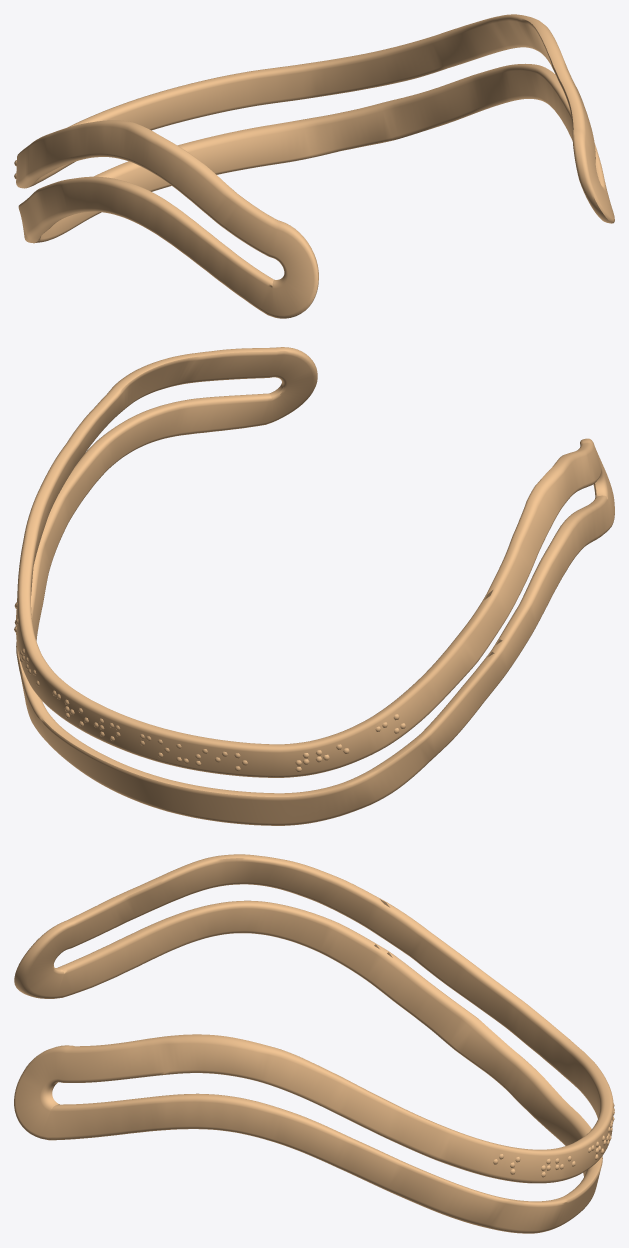
File: circlet-i.glb
The picture shows the model from 3 angles, top to bottom: view 1: azimuth 30°, elevation 25°; view 2: azimuth 150°, elevation 25°; view 3: azimuth 270°, elevation 25°; orthographic projection. The views are drawn at different scales.
Parts seen in each view (by area): view 1: crown-body; view 2: crown-body, braille-dots; view 3: crown-body, braille-dots.
Part boxes in pixels (box(x1,y1,x2,y2)): crown-body: box(16, 14, 614, 318); crown-body: box(15, 347, 614, 825); braille-dots: box(14, 602, 405, 771); crown-body: box(14, 854, 613, 1233); braille-dots: box(493, 1104, 614, 1177).
Bounding box in the file's own units: 0.1754 × 0.0905 × 0.203.
